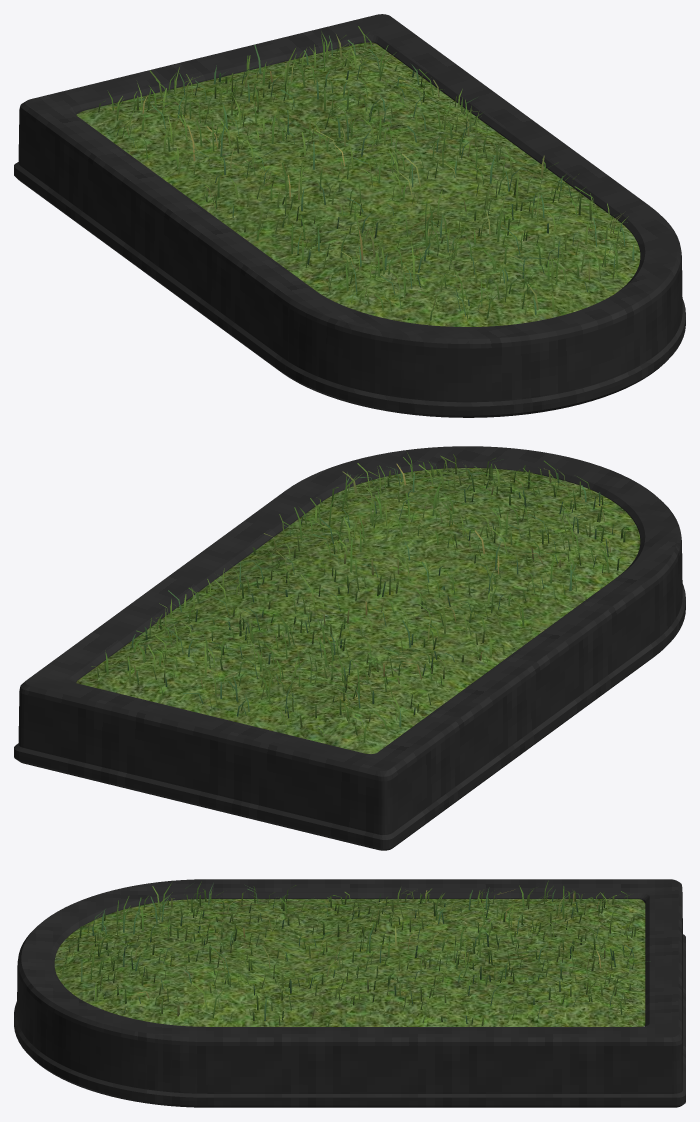
The model's file is flower-round-grass-far.glb.
The picture shows the model from 3 angles, top to bottom: view 1: azimuth 30°, elevation 25°; view 2: azimuth 150°, elevation 25°; view 3: azimuth 270°, elevation 25°; orthographic projection. The views are drawn at different scales.
Visible parts, largest first — view 1: SM_flower_round_grass; view 2: SM_flower_round_grass; view 3: SM_flower_round_grass.
Boxes of the visible parts, box(x1,y1,x2,y2) form: SM_flower_round_grass: box(14, 14, 685, 417); SM_flower_round_grass: box(14, 446, 685, 850); SM_flower_round_grass: box(14, 879, 685, 1107).
Size of the model in its own units: 0.66 by 0.1873 by 1.14.
Materials: 4 (3 with a texture image).
